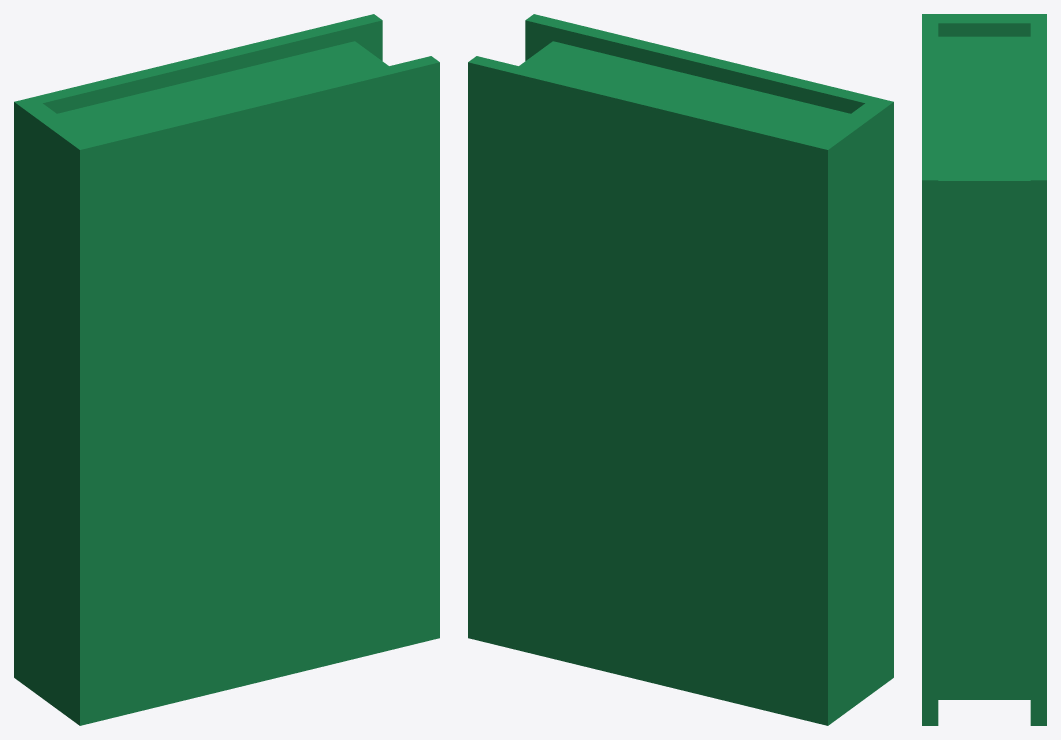
Rendered from S_BookSpecialV3.glb.
3 renders of one model, left to right at view 1: azimuth 30°, elevation 25°; view 2: azimuth 150°, elevation 25°; view 3: azimuth 270°, elevation 25°, orthographic. The views are drawn at different scales.
Visible parts, largest first — view 1: S_BookBaseMediumSpecialV3; view 2: S_BookBaseMediumSpecialV3; view 3: S_BookBaseMediumSpecialV3.
Boxes of the visible parts, x1,y1,x2,y2 form: S_BookBaseMediumSpecialV3: (14, 14, 439, 725); S_BookBaseMediumSpecialV3: (468, 14, 893, 725); S_BookBaseMediumSpecialV3: (922, 14, 1046, 725).
Size of the model in its own units: 0.1206 by 0.1843 by 0.0383.
